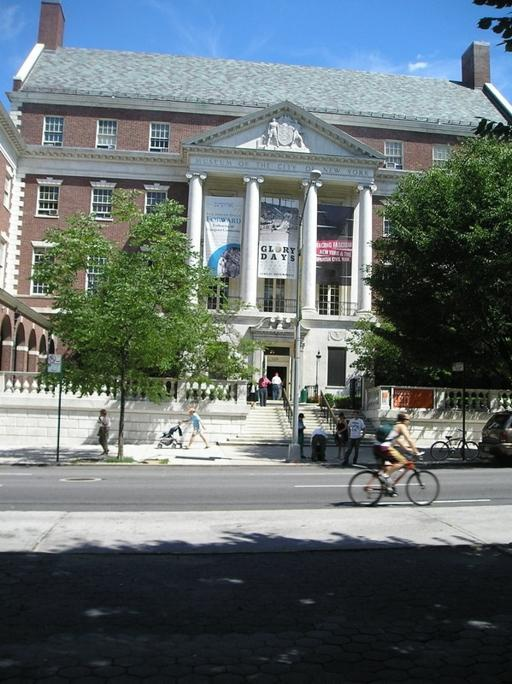non-vehicle: (346, 449, 440, 506), (429, 427, 479, 461)
